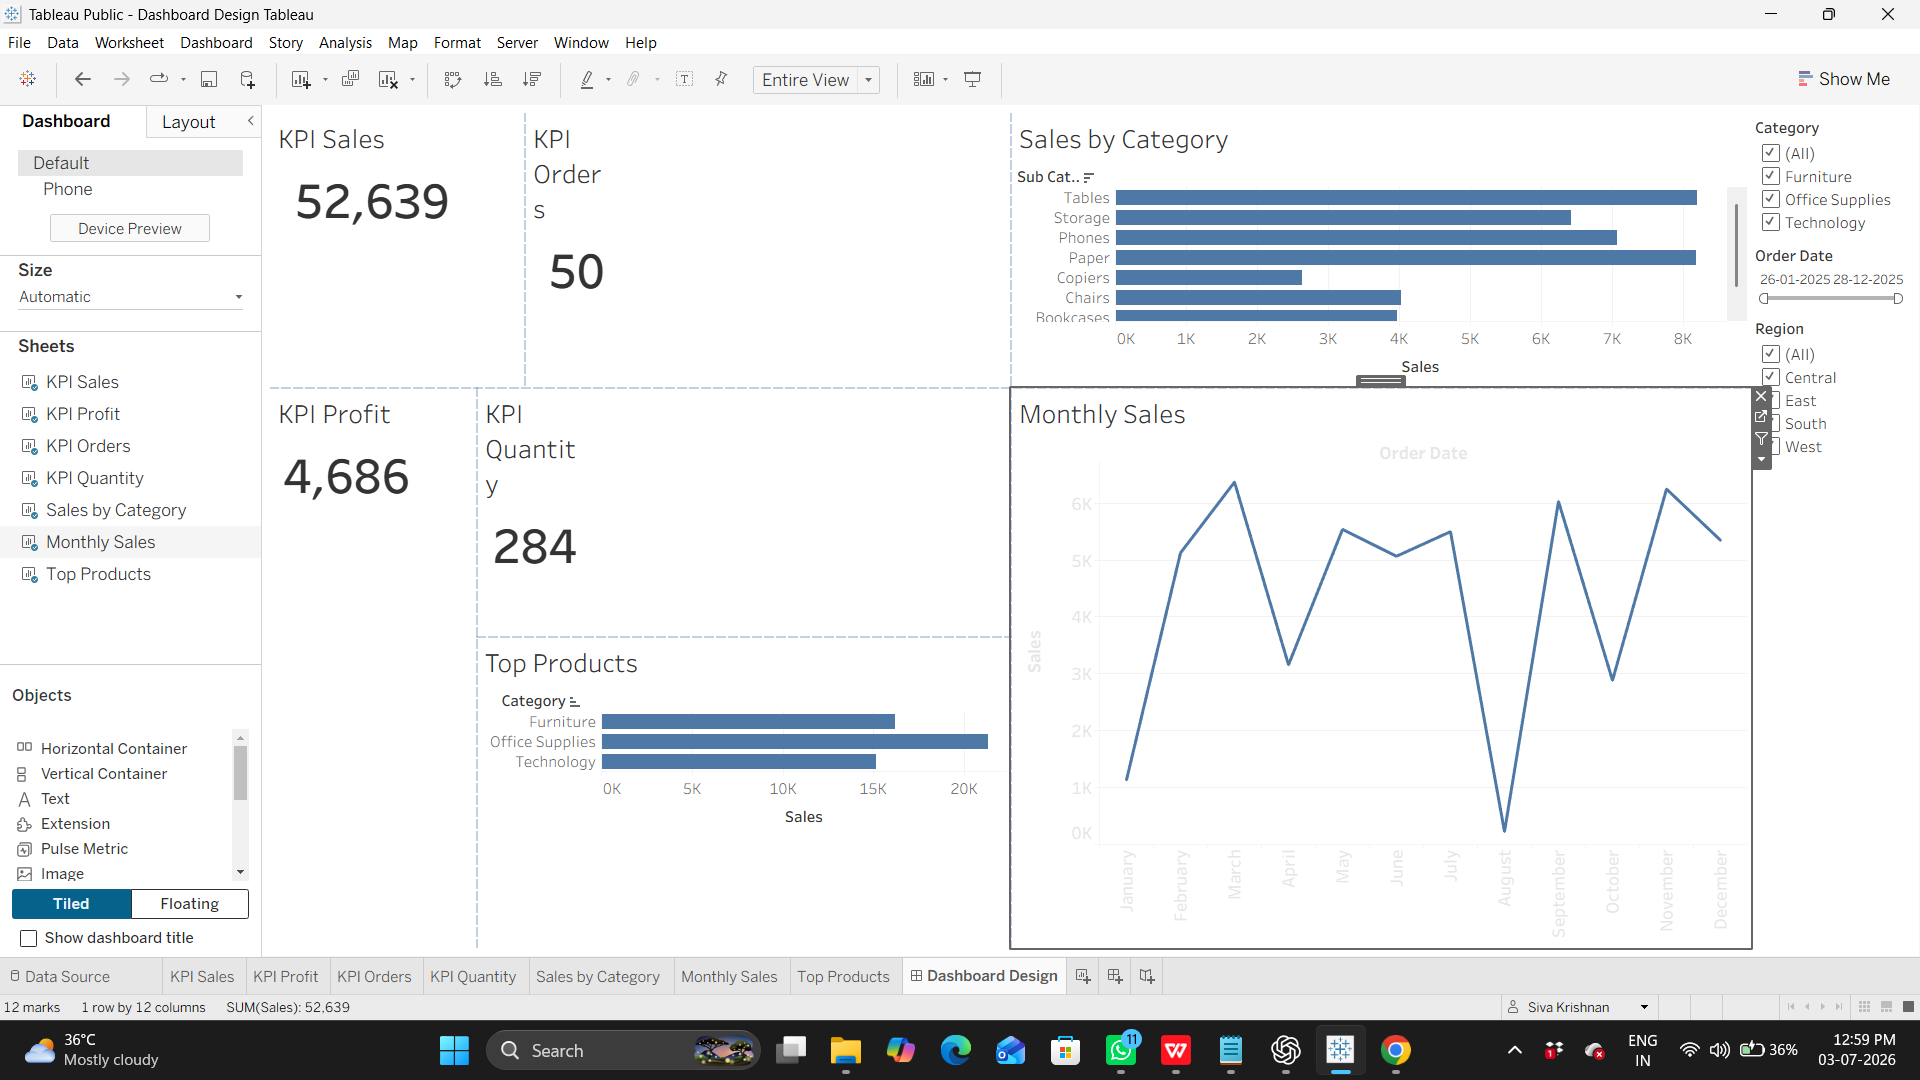

What the dashboard file says about the page in this screenshot:
{"tool":"tableau","page":{"name":"Dashboard Design","canvas":[1000,1000],"units":"permille","ordinal":0},"visuals":[{"type":"worksheet","title":"KPI Sales","mark":"Automatic","box":[4.8,9.4,153.9,490.6]},{"type":"worksheet","title":"KPI Orders","mark":"Automatic","box":[158.7,9.4,293,490.6]},{"type":"worksheet","title":"Sales by Category","mark":"Bar","rows":["SubCategory"],"cols":["Sales"],"box":[451.7,9.4,446.9,490.6]},{"type":"filter","title":"KPI Sales","param":"[federated.0e2e3pi15ddtk215s7i0210w7dma].[none:Category:nk]","box":[898.6,9.4,96.6,150.4]},{"type":"filter","title":"Sales by Category","param":"[federated.0e2e3pi15ddtk215s7i0210w7dma].[none:OrderDate:qk]","box":[898.6,159.8,96.6,85.8]},{"type":"filter","title":"Sales by Category","param":"[federated.0e2e3pi15ddtk215s7i0210w7dma].[none:Region:nk]","box":[898.6,245.6,96.6,177.4]},{"type":"worksheet","title":"KPI Profit","mark":"Automatic","box":[4.8,500,164.2,490.6]},{"type":"worksheet","title":"KPI Quantity","mark":"Automatic","box":[169,500,282.8,245.3]},{"type":"worksheet","title":"Monthly Sales","mark":"Line","rows":["Sales"],"cols":["OrderDate"],"box":[451.7,500,446.9,490.6]},{"type":"worksheet","title":"Top Products","mark":"Automatic","rows":["Category"],"cols":["Sales"],"box":[169,745.3,282.8,245.3]}]}

Visuals, with their boxes on the dashboard's canvas, which has no fixed pixel size, in thousandths of its width and height (x1, y1, x2, y2). These are canvas units, not pixel positions in the 1920x1080 screenshot, which may show the page scaled, cropped or inside an application window:
"KPI Sales" worksheet: pyautogui.locateOnScreen(5, 9, 159, 500)
"KPI Orders" worksheet: pyautogui.locateOnScreen(159, 9, 452, 500)
"Sales by Category" worksheet (Bar marks): pyautogui.locateOnScreen(452, 9, 899, 500)
"KPI Sales" filter: pyautogui.locateOnScreen(899, 9, 995, 160)
"Sales by Category" filter: pyautogui.locateOnScreen(899, 160, 995, 246)
"Sales by Category" filter: pyautogui.locateOnScreen(899, 246, 995, 423)
"KPI Profit" worksheet: pyautogui.locateOnScreen(5, 500, 169, 991)
"KPI Quantity" worksheet: pyautogui.locateOnScreen(169, 500, 452, 745)
"Monthly Sales" worksheet (Line marks): pyautogui.locateOnScreen(452, 500, 899, 991)
"Top Products" worksheet: pyautogui.locateOnScreen(169, 745, 452, 991)
